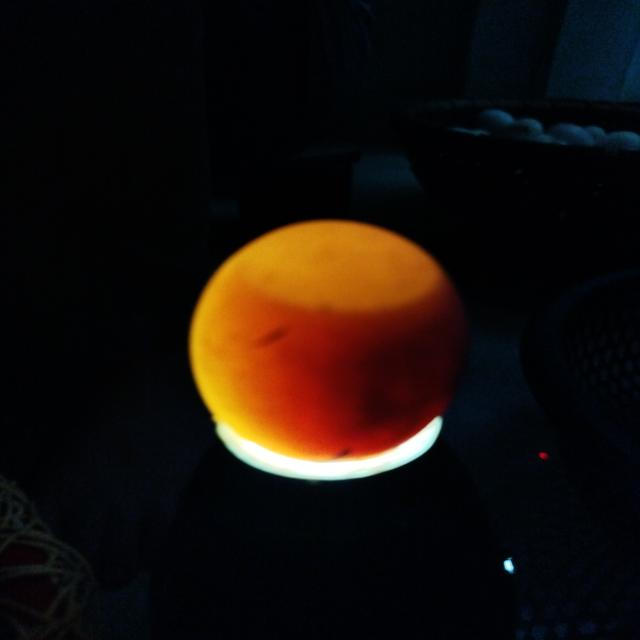Area Infectada: (356, 293, 470, 437)
